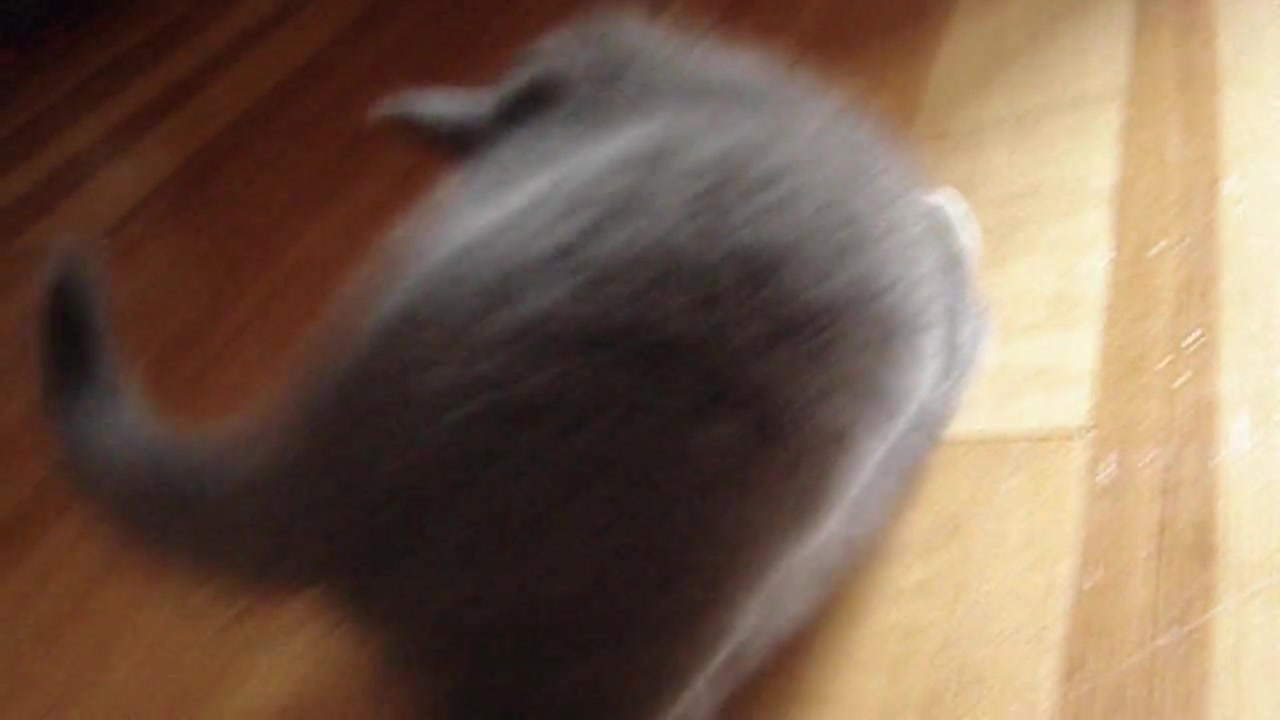cat: (40, 19, 1002, 717)
